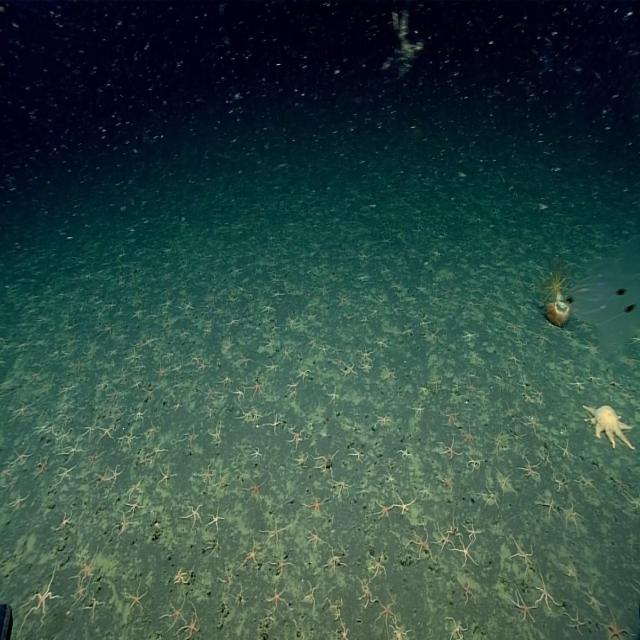brittle-stars: (17, 564, 62, 634), (530, 568, 562, 617), (508, 528, 538, 574), (372, 589, 400, 632), (600, 608, 635, 640), (122, 580, 152, 616), (512, 588, 538, 629), (262, 516, 291, 552), (453, 530, 477, 573), (312, 448, 341, 478), (162, 598, 189, 630), (325, 471, 354, 500), (240, 537, 261, 577), (497, 470, 521, 504), (303, 517, 325, 554), (434, 519, 455, 557), (565, 604, 588, 638), (264, 582, 290, 612), (411, 530, 433, 565), (436, 434, 461, 463), (76, 554, 100, 584), (365, 550, 389, 580), (442, 617, 473, 640), (323, 546, 348, 574), (455, 421, 479, 450), (270, 550, 294, 578), (456, 582, 480, 610), (112, 509, 135, 538), (180, 605, 199, 640), (485, 428, 510, 454), (182, 500, 206, 527), (203, 506, 226, 534), (413, 484, 438, 508), (538, 493, 562, 518), (388, 616, 412, 640), (302, 578, 321, 608), (355, 579, 374, 607), (370, 498, 394, 520), (304, 493, 328, 515), (536, 443, 558, 467), (482, 486, 502, 512), (55, 462, 77, 485), (0, 462, 23, 484), (245, 478, 266, 502), (13, 441, 34, 465), (55, 509, 75, 534), (563, 502, 583, 527), (335, 613, 353, 640), (166, 569, 188, 591), (64, 440, 86, 462), (196, 466, 218, 488), (586, 590, 606, 614), (10, 401, 33, 421), (9, 491, 27, 516), (140, 422, 161, 443), (463, 454, 483, 476), (518, 459, 538, 481), (486, 446, 508, 466), (286, 426, 304, 450), (110, 459, 124, 489), (326, 596, 345, 618), (268, 412, 287, 434), (623, 487, 640, 511), (611, 475, 631, 495), (85, 595, 104, 616), (395, 494, 414, 515), (72, 584, 90, 606), (124, 497, 146, 515), (155, 464, 173, 486), (211, 472, 230, 492), (354, 483, 374, 502), (347, 445, 367, 464), (207, 425, 225, 446), (34, 452, 50, 475), (294, 447, 308, 473), (463, 521, 481, 541), (564, 564, 580, 586), (96, 466, 110, 491), (526, 415, 544, 434), (249, 378, 266, 398), (96, 425, 117, 441), (182, 427, 200, 445), (408, 403, 426, 421), (577, 474, 597, 490), (382, 470, 398, 488), (553, 474, 569, 492), (235, 353, 253, 369), (234, 382, 247, 404), (503, 402, 517, 422), (123, 432, 140, 448), (461, 329, 479, 344), (560, 442, 574, 461), (374, 414, 393, 428), (262, 361, 281, 375), (282, 344, 295, 364), (232, 590, 248, 606), (60, 426, 72, 447), (356, 348, 374, 362), (210, 538, 223, 557), (328, 386, 341, 405), (219, 574, 234, 590), (444, 408, 459, 424), (138, 450, 151, 468), (82, 423, 97, 438), (150, 446, 165, 461), (127, 346, 142, 361), (440, 475, 454, 491), (397, 445, 411, 461), (156, 363, 168, 381), (239, 408, 254, 422), (286, 375, 301, 389), (126, 481, 142, 494), (86, 449, 99, 465), (343, 362, 357, 376), (429, 375, 444, 388), (260, 338, 275, 351), (586, 342, 602, 354), (587, 372, 600, 386), (301, 364, 314, 378), (170, 398, 184, 411), (306, 417, 318, 432), (572, 376, 584, 391), (202, 386, 217, 398), (381, 369, 397, 380), (133, 408, 146, 421), (622, 388, 634, 402), (426, 332, 440, 344), (188, 352, 199, 367), (222, 374, 232, 390), (248, 411, 262, 422), (132, 376, 143, 390), (144, 334, 155, 348), (348, 424, 362, 435), (173, 359, 182, 375), (467, 350, 479, 362), (538, 332, 550, 344), (47, 352, 61, 362), (112, 385, 121, 400), (251, 448, 262, 460), (416, 384, 428, 395), (360, 363, 372, 374), (61, 383, 73, 394), (332, 358, 344, 369), (288, 388, 298, 401), (505, 320, 518, 330), (523, 390, 532, 404), (116, 404, 125, 418), (533, 391, 544, 402), (331, 343, 342, 354), (133, 364, 144, 375), (146, 386, 156, 398), (119, 367, 127, 382), (99, 379, 109, 391), (47, 424, 56, 437), (64, 336, 75, 346), (198, 360, 207, 372), (376, 338, 388, 347), (402, 327, 411, 339), (509, 355, 521, 364), (205, 405, 213, 418), (163, 350, 173, 360), (479, 392, 487, 404), (74, 362, 82, 374), (308, 337, 316, 349), (466, 383, 479, 390), (317, 345, 327, 354), (30, 370, 39, 380), (64, 350, 71, 362), (270, 324, 278, 334), (117, 433, 123, 446), (608, 380, 620, 386), (515, 338, 523, 347)
